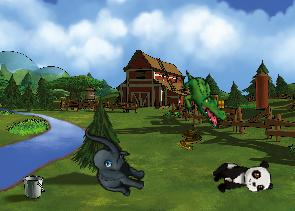crocodile: (168, 68, 237, 130)
elephant: (73, 129, 153, 199)
panda: (211, 159, 273, 196)
